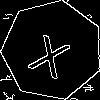X: (27, 25, 77, 80)
